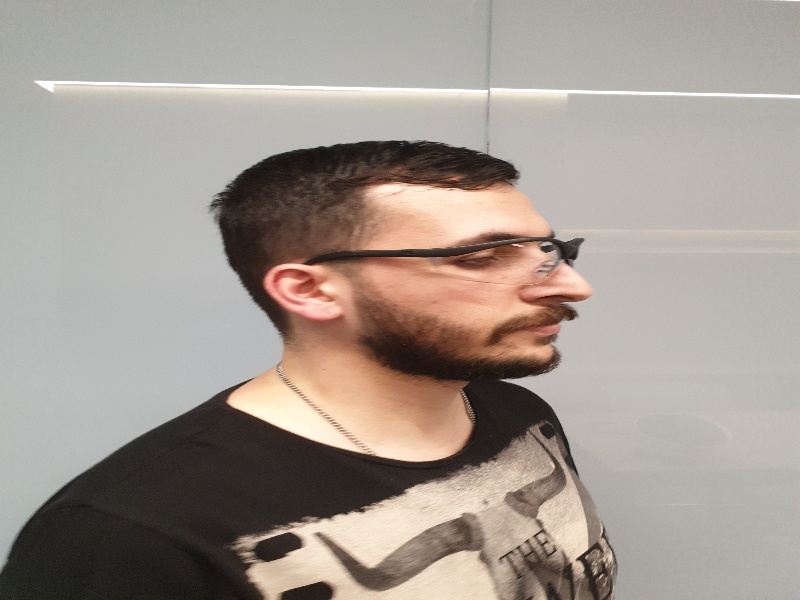Gozluk: (324, 235, 591, 281)
